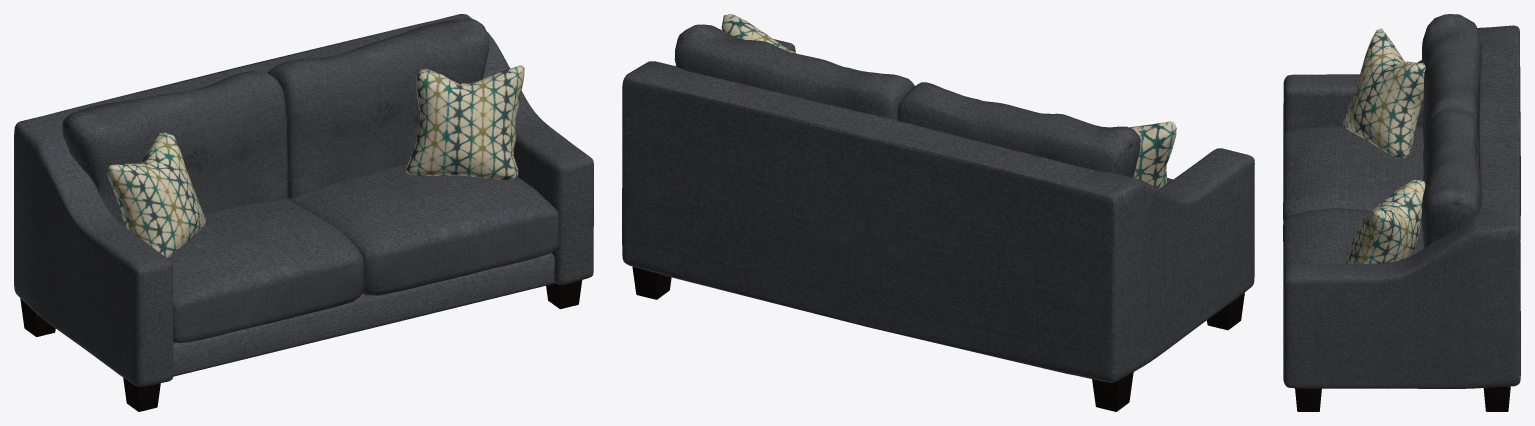
The model's file is SOBA_3.glb.
3 views of the same model, side by side, from view 1: azimuth 30°, elevation 25°; view 2: azimuth 150°, elevation 25°; view 3: azimuth 270°, elevation 25° (orthographic). The views are drawn at different scales.
Parts seen in each view (by area): view 1: Object_2; view 2: Object_2; view 3: Object_2.
Boxes of the visible parts, x1,y1,x2,y2 form: Object_2: (14,14,593,411); Object_2: (622,14,1254,411); Object_2: (1283,14,1520,411).
Size of the model in its own units: 1.67 by 0.7931 by 0.8139.
1 material, 1 textured.
